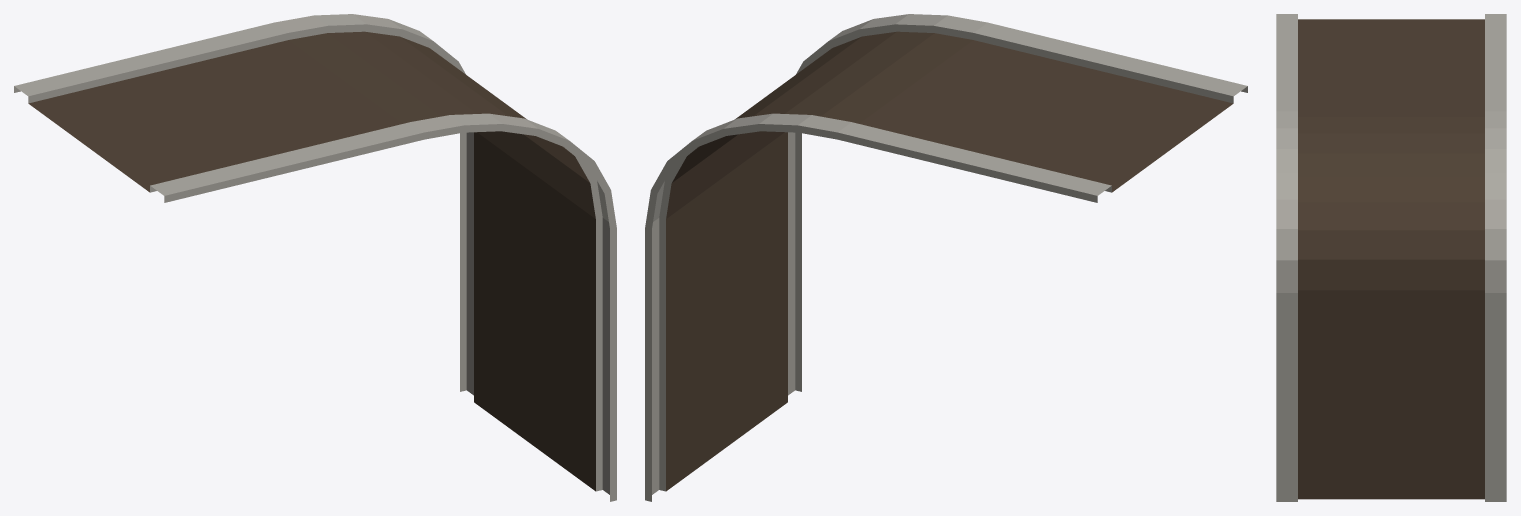
File: DownCurveRoad.fbx
The picture shows the model from 3 angles, left to right: view 1: azimuth 30°, elevation 25°; view 2: azimuth 150°, elevation 25°; view 3: azimuth 270°, elevation 25°; orthographic projection. The views are drawn at different scales.
Parts seen in each view (by area): view 1: Plane.070; view 2: Plane.070; view 3: Plane.070.
Boxes of the visible parts, bbox=[...] form: Plane.070: bbox=[14, 14, 616, 501]; Plane.070: bbox=[645, 14, 1247, 501]; Plane.070: bbox=[1276, 14, 1506, 501].
Bounding box in the file's own units: 34801 × 30471 × 20000.
